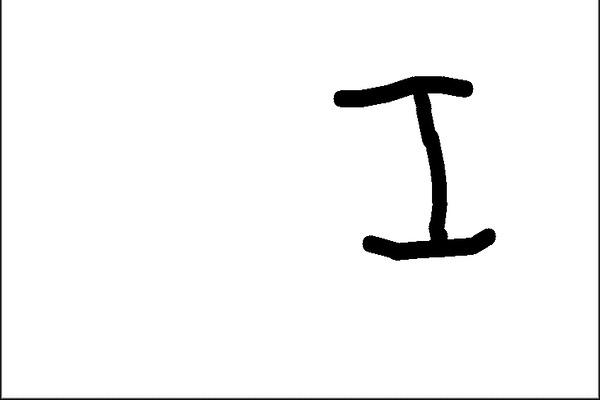i: (324, 55, 504, 267)
